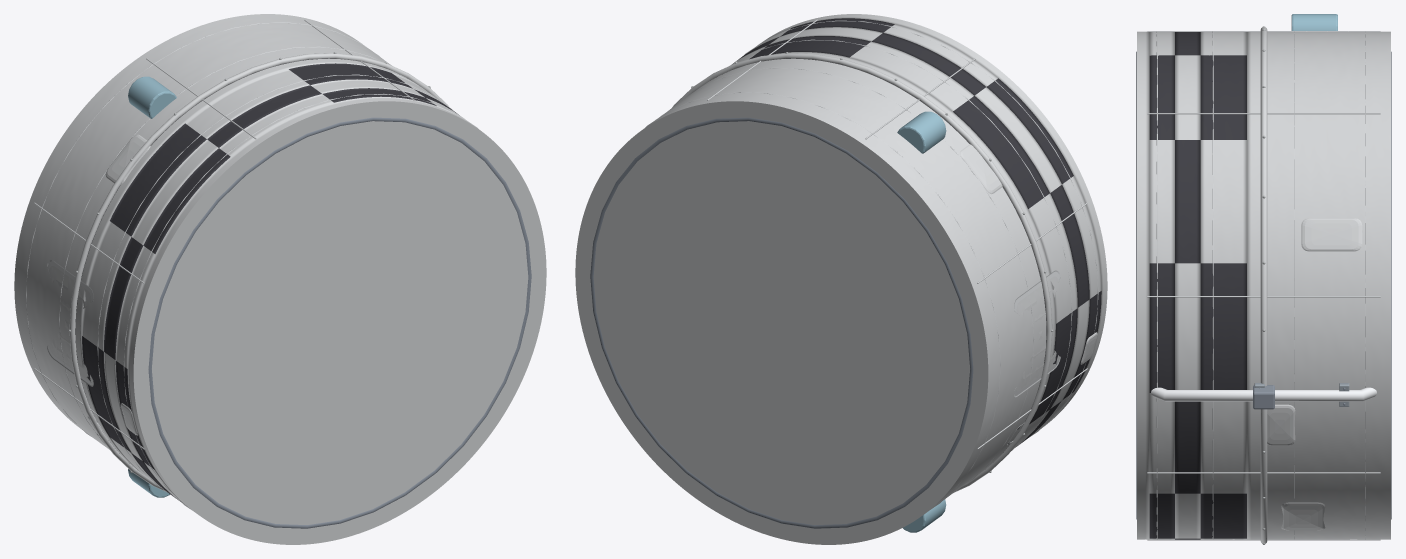
Rendered from tank-3-main.glb.
3 views of the same model, side by side, from view 1: azimuth 30°, elevation 25°; view 2: azimuth 150°, elevation 25°; view 3: azimuth 270°, elevation 25° (orthographic). The views are drawn at different scales.
Visible parts, largest first — view 1: tank_hull, tank_end_rim_1.0, tank-band, tank_surface_panels, copv_bottle_1.0, tank_circumferential_seam_2, tank_circumferential_seam_0, tank_circumferential_seam_3; view 2: tank_hull, tank_end_rim_-1.0, tank-band, tank_surface_panels, copv_bottle_1.0, tank_circumferential_seam_2, tank_circumferential_seam_0, tank_circumferential_seam_3, tank_circumferential_seam_1; view 3: tank_hull, tank_surface_panels, tank-band, cryo_feedline, tank_circumferential_seam_2, copv_bottle_1.0, tank_circumferential_seam_3, feedline_valve, tank_circumferential_seam_0, tank_end_rim_-1.0, tank_end_rim_1.0, tank_longitudinal_seam_0 (+4 smaller).
Part boxes in pixels (box(x1,y1,x2,y2)): tank_hull: box(14, 14, 546, 544); tank_end_rim_1.0: box(148, 117, 531, 528); tank-band: box(69, 53, 448, 492); tank_surface_panels: box(47, 134, 150, 440); copv_bottle_1.0: box(128, 76, 176, 118); tank_circumferential_seam_2: box(97, 74, 452, 490); tank_circumferential_seam_0: box(25, 22, 379, 436); tank_circumferential_seam_3: box(123, 93, 478, 509); tank_hull: box(575, 14, 1107, 544); tank_end_rim_-1.0: box(590, 117, 973, 528); tank-band: box(672, 53, 1052, 492); tank_surface_panels: box(959, 144, 1097, 444); copv_bottle_1.0: box(897, 111, 946, 153); tank_circumferential_seam_2: box(730, 39, 1072, 450); tank_circumferential_seam_0: box(645, 92, 1000, 507); tank_circumferential_seam_3: box(744, 20, 1098, 435); tank_circumferential_seam_1: box(679, 67, 1034, 482); tank_hull: box(1137, 31, 1390, 539); tank_surface_panels: box(1267, 218, 1362, 530); tank-band: box(1260, 27, 1267, 543); cryo_feedline: box(1151, 387, 1376, 401); tank_circumferential_seam_2: box(1212, 31, 1213, 539); copv_bottle_1.0: box(1291, 14, 1337, 30); tank_circumferential_seam_3: box(1156, 31, 1157, 539); feedline_valve: box(1253, 385, 1274, 409); tank_circumferential_seam_0: box(1365, 31, 1365, 539); tank_end_rim_-1.0: box(1391, 51, 1391, 519); tank_end_rim_1.0: box(1136, 51, 1136, 519); tank_longitudinal_seam_0: box(1147, 296, 1380, 297).
Bounding box in the file's own units: 6.32 × 6.15 × 3.02.
